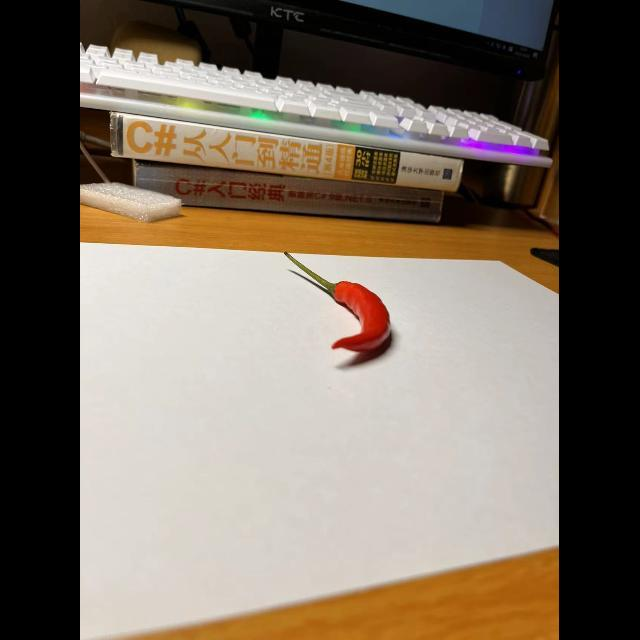chili_pepper: (271, 252, 400, 360)
